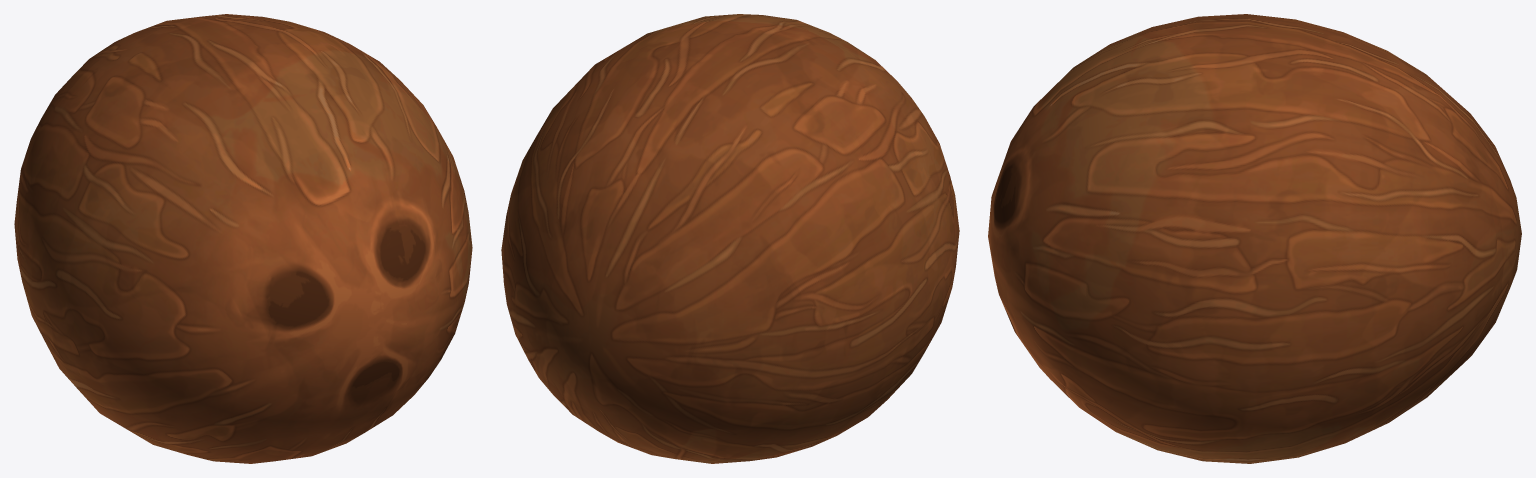
Rendered from SM_Coconut.fbx.
3 renders of one model, left to right at view 1: azimuth 30°, elevation 25°; view 2: azimuth 150°, elevation 25°; view 3: azimuth 270°, elevation 25°, orthographic. The views are drawn at different scales.
Parts seen in each view (by area): view 1: SM_Coconut; view 2: SM_Coconut; view 3: SM_Coconut.
Part boxes in pixels (x1=…): SM_Coconut: x1=14, y1=14, x2=472, y2=463; SM_Coconut: x1=501, y1=14, x2=959, y2=463; SM_Coconut: x1=988, y1=14, x2=1521, y2=463.
Size of the model in its own units: 17.16 by 16.96 by 20.19.
